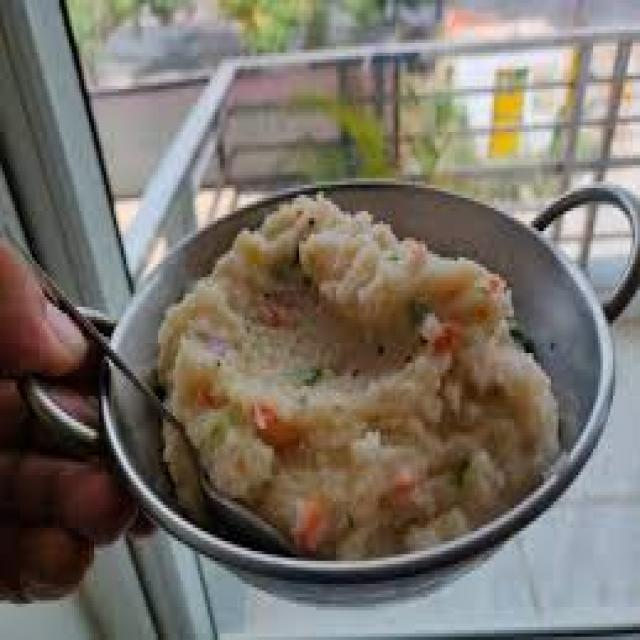UPMA: (153, 205, 558, 554)
